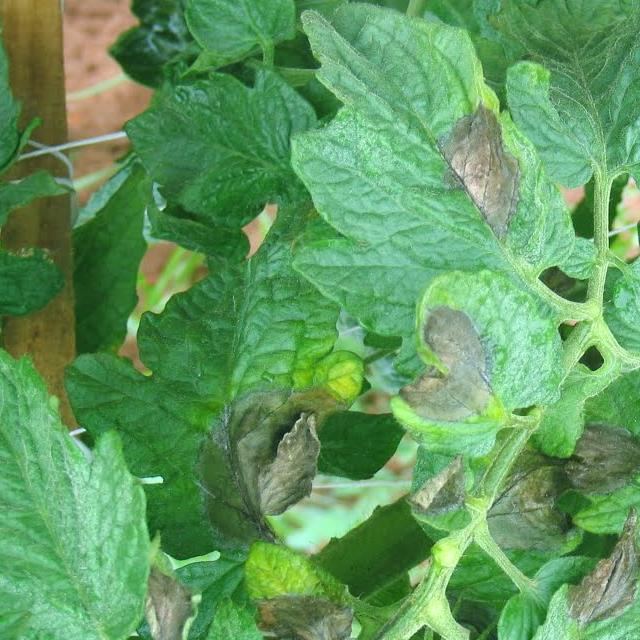Tomato leaf late blight: (60, 221, 348, 585), (286, 0, 580, 342), (390, 270, 567, 443), (236, 526, 361, 640), (528, 523, 640, 640)
